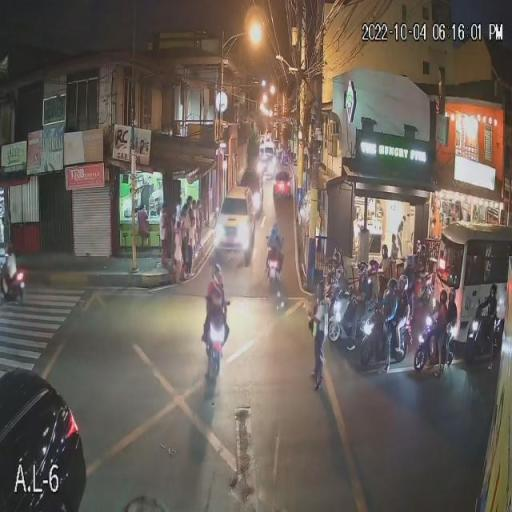helmet: (397, 276, 417, 298), (354, 260, 372, 276), (444, 289, 458, 304), (416, 246, 430, 261), (436, 290, 449, 306), (377, 244, 390, 260), (384, 278, 397, 292), (485, 283, 497, 298), (331, 251, 341, 268), (212, 265, 224, 278), (269, 222, 279, 234), (414, 274, 424, 286), (366, 260, 378, 270)
motorcycle: (461, 298, 500, 366), (355, 306, 395, 370), (201, 308, 230, 381), (410, 310, 442, 374), (324, 293, 356, 346), (266, 247, 289, 311), (329, 254, 358, 300), (355, 264, 383, 307), (0, 264, 27, 306)
rider: (200, 264, 230, 342), (375, 280, 401, 351), (398, 275, 416, 363), (473, 282, 501, 338), (424, 291, 449, 353), (369, 244, 398, 288), (447, 288, 461, 366), (264, 222, 285, 270), (0, 240, 19, 292), (360, 262, 382, 302), (328, 249, 344, 284)
